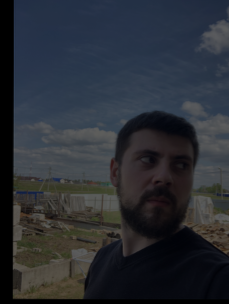without_mask: (127, 141, 194, 238)
